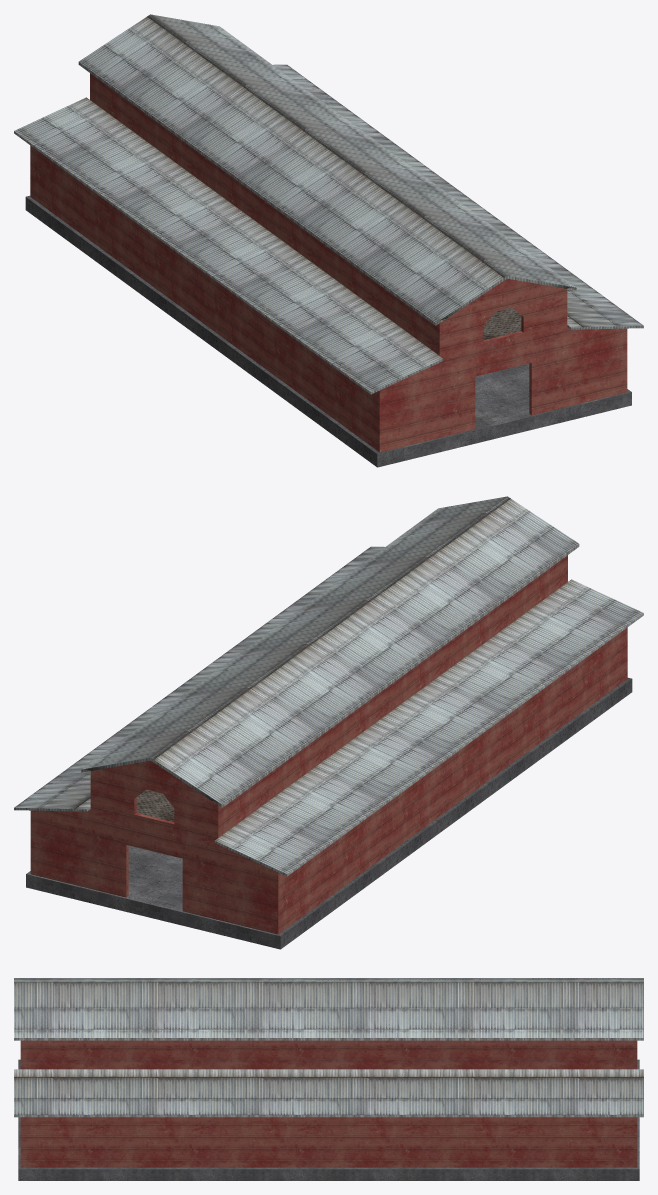
The model's file is warehouse_1.fbx.
The picture shows the model from 3 angles, top to bottom: view 1: azimuth 30°, elevation 25°; view 2: azimuth 150°, elevation 25°; view 3: azimuth 270°, elevation 25°; orthographic projection. The views are drawn at different scales.
Parts seen in each view (by area): view 1: metal, stone; view 2: metal, stone; view 3: metal, stone.
Part boxes in pixels (x1,y1,x2,y2): metal: (14, 14, 643, 452); stone: (25, 195, 631, 467); metal: (14, 496, 643, 934); stone: (26, 677, 632, 949); metal: (14, 978, 643, 1167); stone: (18, 1059, 639, 1180).
Bounding box in the file's own units: 1394 × 794 × 3156.
Materials: 5 (5 with a texture image).
